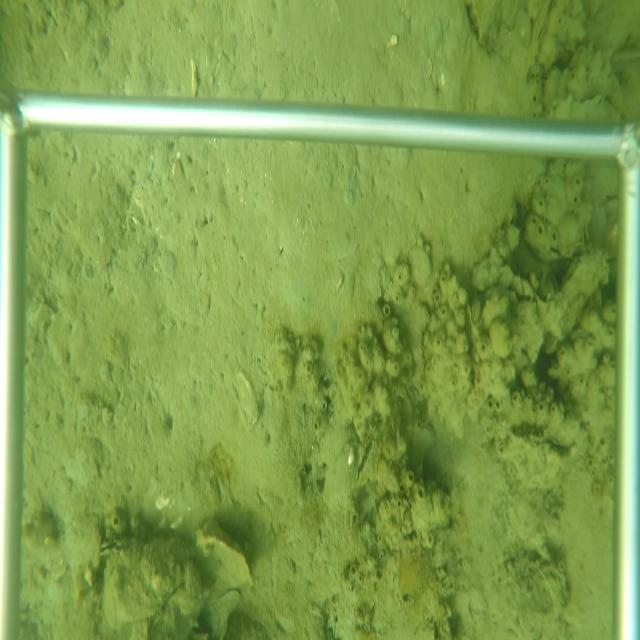Oyster-Closed: (558, 251, 612, 340), (193, 518, 254, 587), (540, 89, 625, 115)
Oyster-Open: (355, 423, 382, 488)
